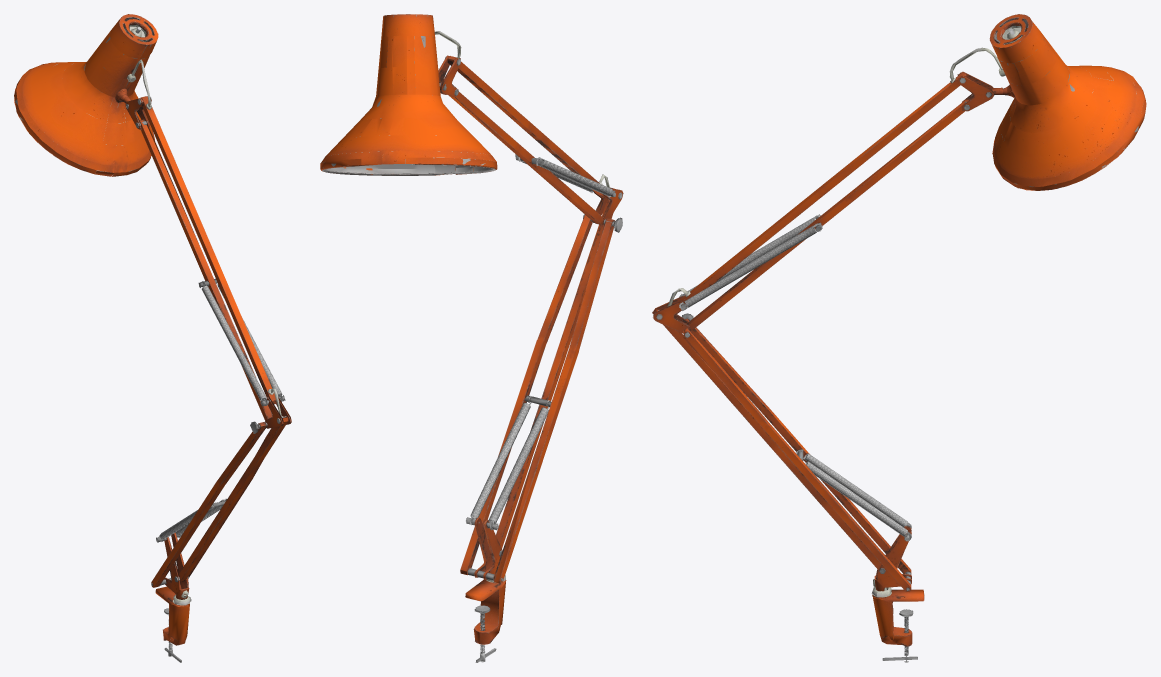
The model's file is desk_lamp_arm_01.glb.
3 views of the same model, side by side, from view 1: azimuth 30°, elevation 25°; view 2: azimuth 150°, elevation 25°; view 3: azimuth 270°, elevation 25° (orthographic). The views are drawn at different scales.
Parts seen in each view (by area): view 1: desk_lamp_arm_01; view 2: desk_lamp_arm_01; view 3: desk_lamp_arm_01.
Boxes of the visible parts, <box> form: desk_lamp_arm_01: <box>14,14,291,662</box>; desk_lamp_arm_01: <box>320,14,623,662</box>; desk_lamp_arm_01: <box>652,14,1146,662</box>.
Size of the model in its own units: 0.2021 by 0.8927 by 0.6155.
Materials: 2 (2 with a texture image).
